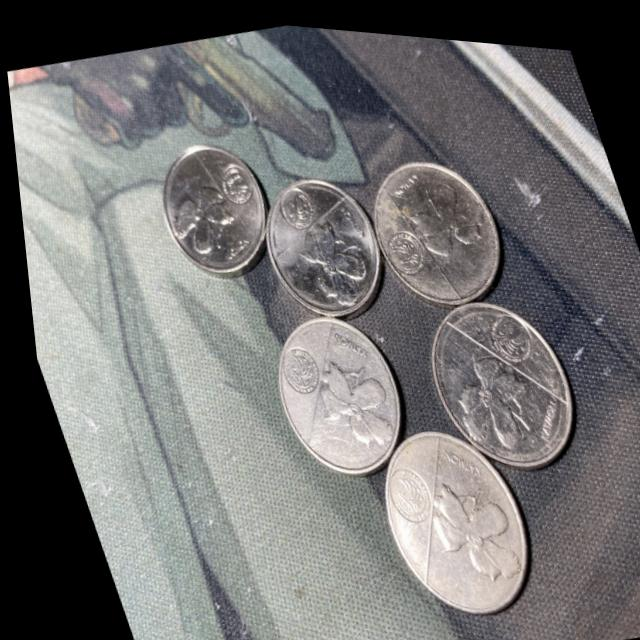25Cent_New_Back: (357, 406, 541, 623), (397, 270, 581, 470), (253, 298, 410, 474), (353, 141, 514, 310), (244, 166, 391, 320), (133, 127, 275, 280)
